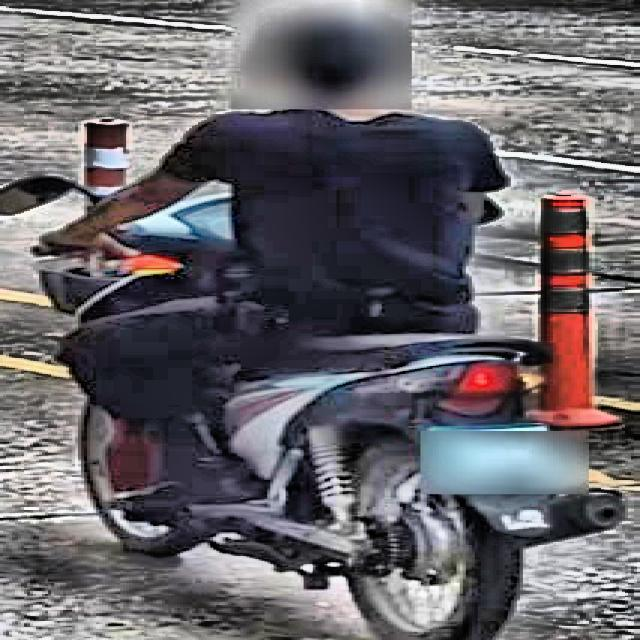motorcycle: (0, 161, 627, 639)
